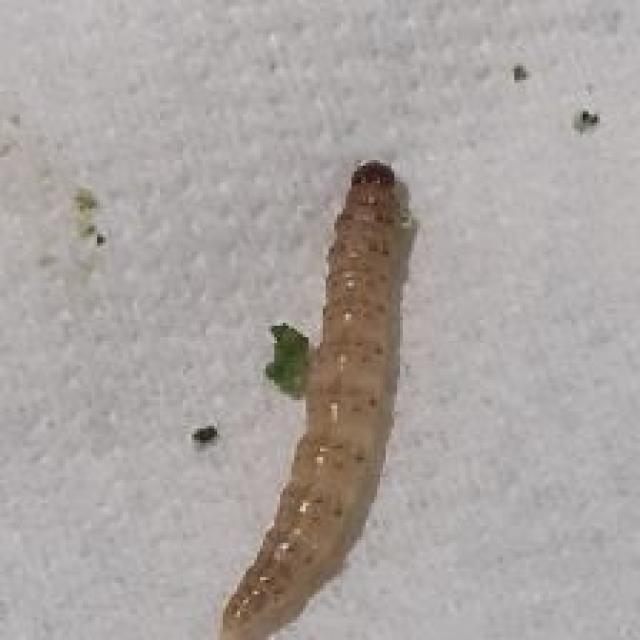white mucus: (195, 148, 437, 632)
